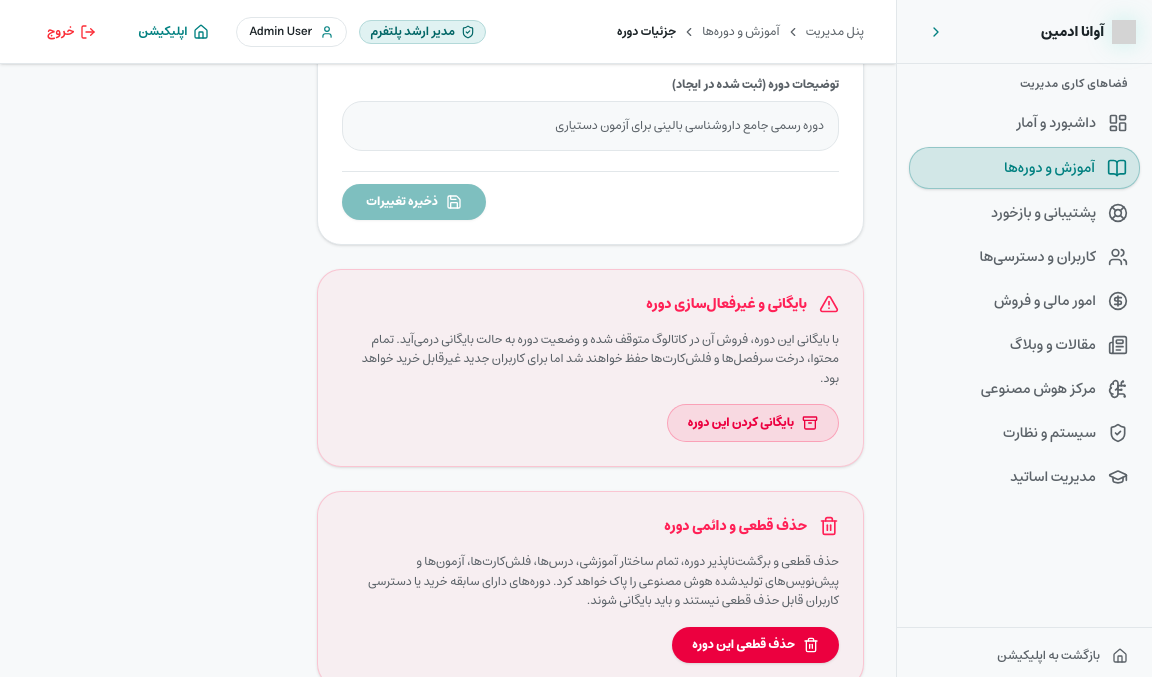
AdminCourseHubPage (/admin/courses/:courseId) › Case 7: Settings panel allows archiving course with confirmation
The image size is (1152, 677).
(page scrolled)
Click Initial Archive Button
What coordinates should you click on to do the following:
click the button "بایگانی کردن این دوره"
I would click on:
 (753, 423)
Its box is [667,404,839,442].
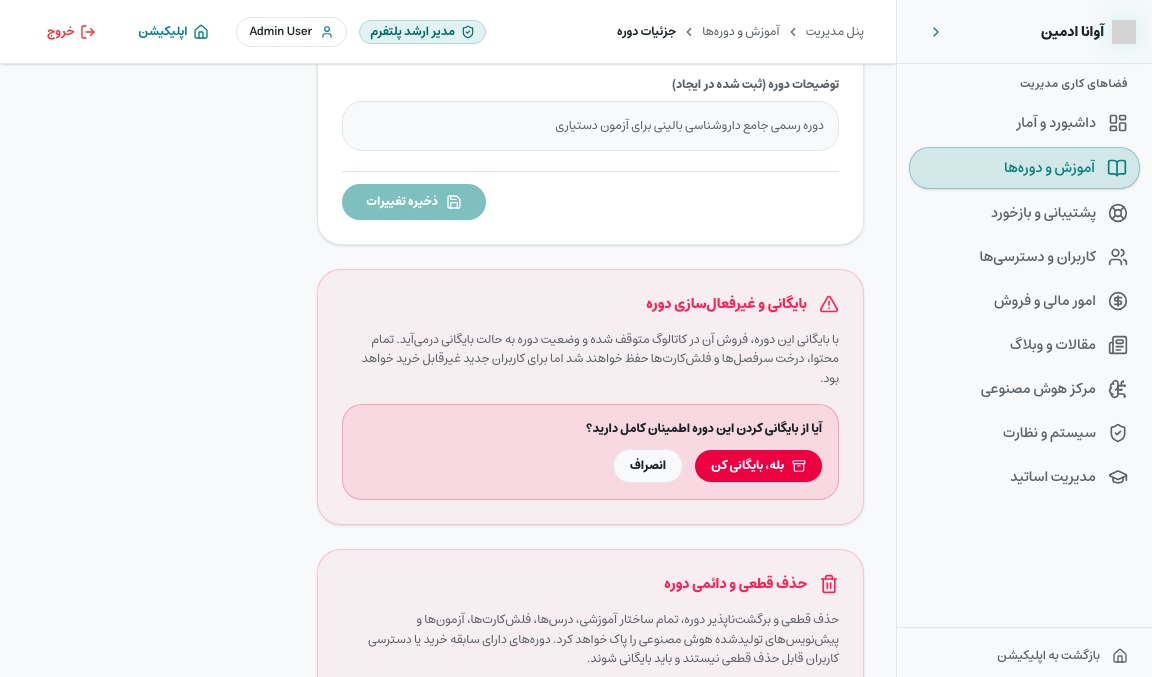
Now the text "آیا از بایگانی کردن این دوره اطمینان کامل دارید؟" is shown, box [586,418,822,439]
Click Confirm Archive Button
What coordinates should you click on to do the following:
click the button "بله، بایگانی کن"
I would click on:
 (759, 466)
Its box is [695,450,822,482].
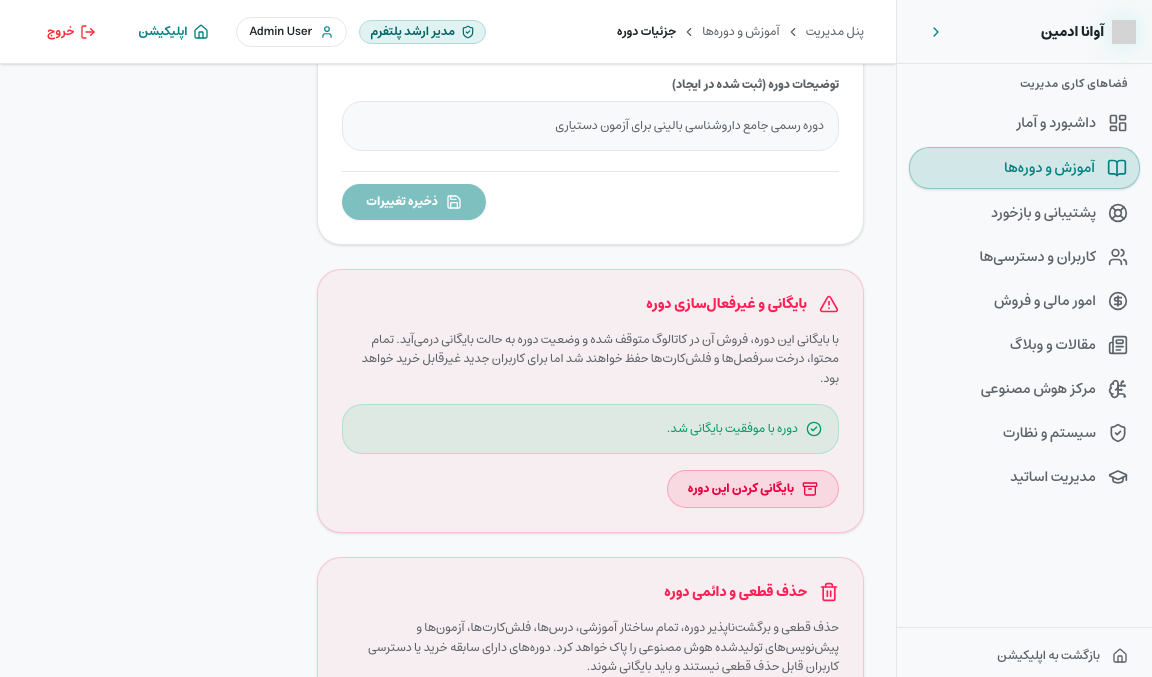
Now the text "دوره با موفقیت بایگانی شد." is shown, box [667,421,798,437]
